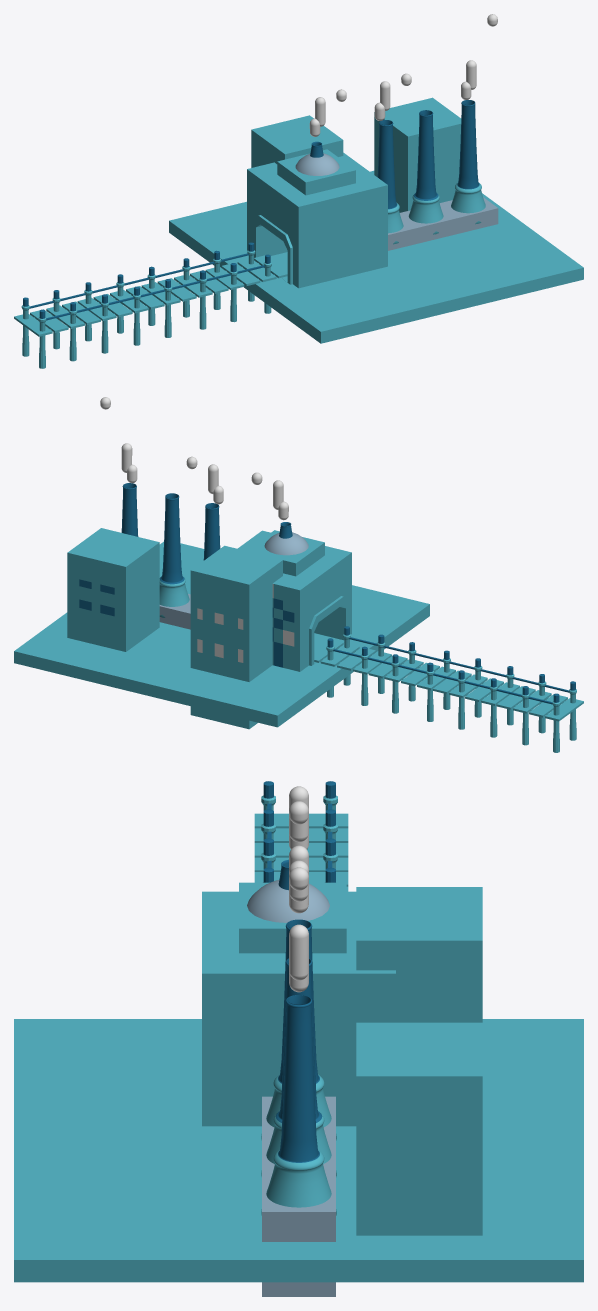
File: factory_building-8.gltf
The picture shows the model from 3 angles, top to bottom: view 1: azimuth 30°, elevation 25°; view 2: azimuth 150°, elevation 25°; view 3: azimuth 270°, elevation 25°; orthographic projection. The views are drawn at different scales.
Parts seen in each view (by area): view 1: pCube1, pCube2, pCube44, pCube45, pCube3, pCylinder1, pCylinder2, pCylinder3, pSphere1, pasted__pasted__pCube67, pasted__pasted__pCube68; view 2: pCube1, pCube45, pCube44, pCube2, pCylinder2, pCylinder1, pCylinder3, pSphere1, pCube3, pasted__pasted__pCube68, pasted__pasted__pCube67; view 3: pCube1, pCube2, pCube44, pCube45, pCylinder1, pCube3, pSphere1, pCylinder2, pCylinder3, pSphere33, pasted__pasted__pCube64, pasted__pasted__pCube62 (+3 smaller).
Boxes of the visible parts, x1,y1,x2,y2 form: pCube1: (169,170,583,343); pCube2: (247,149,387,288); pCube44: (374,97,461,212); pCube45: (251,115,343,167); pCube3: (388,197,498,250); pCylinder1: (451,100,485,224); pCylinder2: (408,110,443,234); pCylinder3: (377,120,403,244); pSphere1: (295,153,339,175); pasted__pasted__pCube67: (30,253,248,308); pasted__pasted__pCube68: (46,265,264,320); pCube1: (14,541,429,727); pCube45: (190,545,282,729); pCube44: (67,528,159,651); pCube2: (237,530,351,671); pCylinder2: (159,493,189,617); pCylinder1: (121,483,138,536); pCylinder3: (203,503,220,560); pSphere1: (264,532,308,555); pCube3: (159,594,190,629); pasted__pasted__pCube68: (349,637,568,692); pasted__pasted__pCube67: (333,649,552,704); pCube1: (14,1019,583,1282); pCube2: (202,882,395,1126); pCube44: (356,1022,482,1235); pCube45: (356,887,482,1022); pCylinder1: (261,995,336,1215); pCube3: (262,1096,335,1296); pSphere1: (247,880,329,922); pCylinder2: (261,958,336,1176); pCylinder3: (261,919,336,1140); pSphere33: (289,924,308,980); pasted__pasted__pCube64: (254,813,348,828); pasted__pasted__pCube62: (254,843,348,857).
Bounding box in the file's own units: 2.69 × 1.33 × 1.47.
